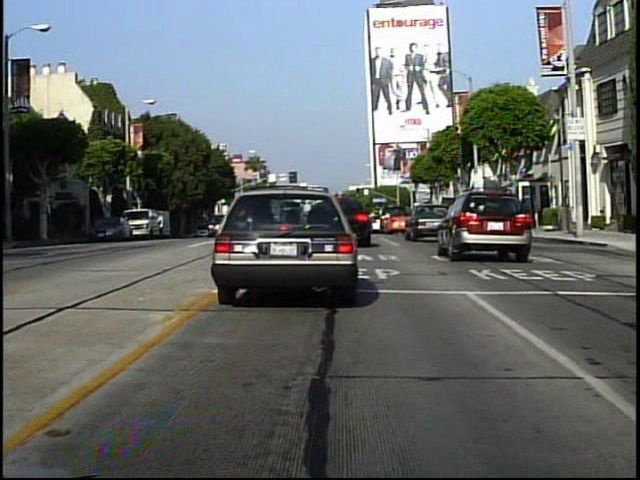person: (156, 208, 169, 243)
